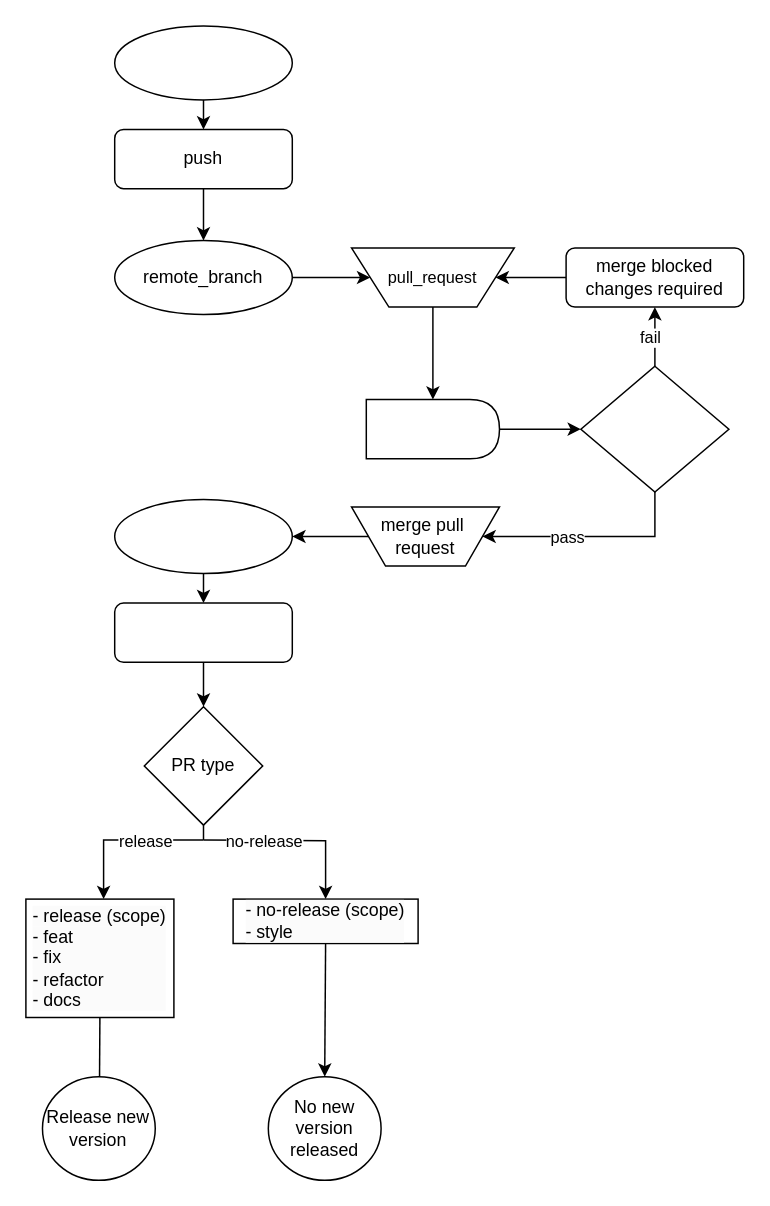
Some shapes in this 770 by 1206 pixel diagram are drawn without their labels. Each missing label, with the centre of its shape:
"develop" belongs at point (202, 536).
"lint test PR title check" belongs at point (654, 428).
"local_branch" belongs at point (202, 62).
"release workflow" belongs at point (202, 632).
"wait for checks" belongs at point (432, 428).
